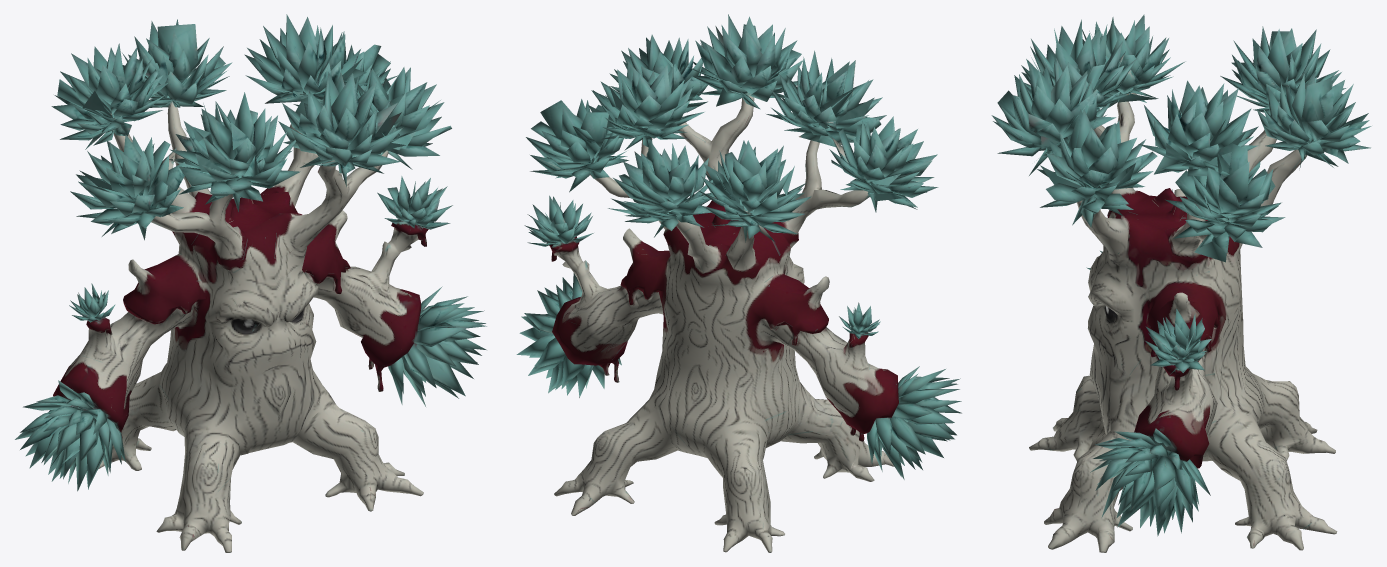
The model's file is Pok24. Dragalis.glb.
The picture shows the model from 3 angles, left to right: view 1: azimuth 30°, elevation 25°; view 2: azimuth 150°, elevation 25°; view 3: azimuth 270°, elevation 25°; orthographic projection. The views are drawn at different scales.
Size of the model in its own units: 0.9604 by 0.8633 by 0.6714.
Materials: 1 (1 with a texture image).
